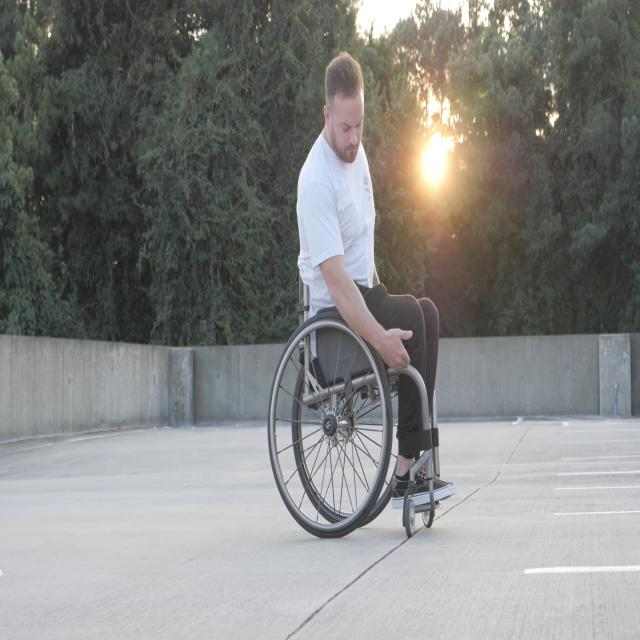wheelchairs: (268, 245, 443, 541)
